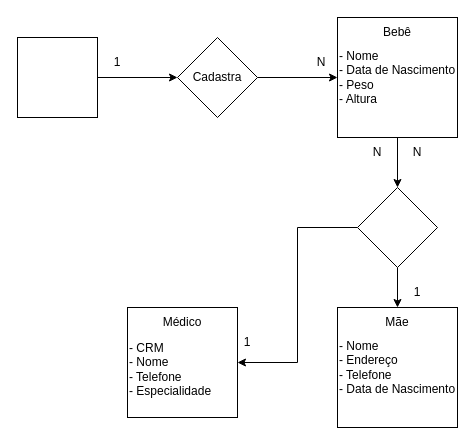
Image size: 475x445. Some labels were removed from this diagram. The centre of each missing label's shape, as x and y in pixels:
"Berçário" belongs at point 57,77.
"Tem" belongs at point 397,227.
